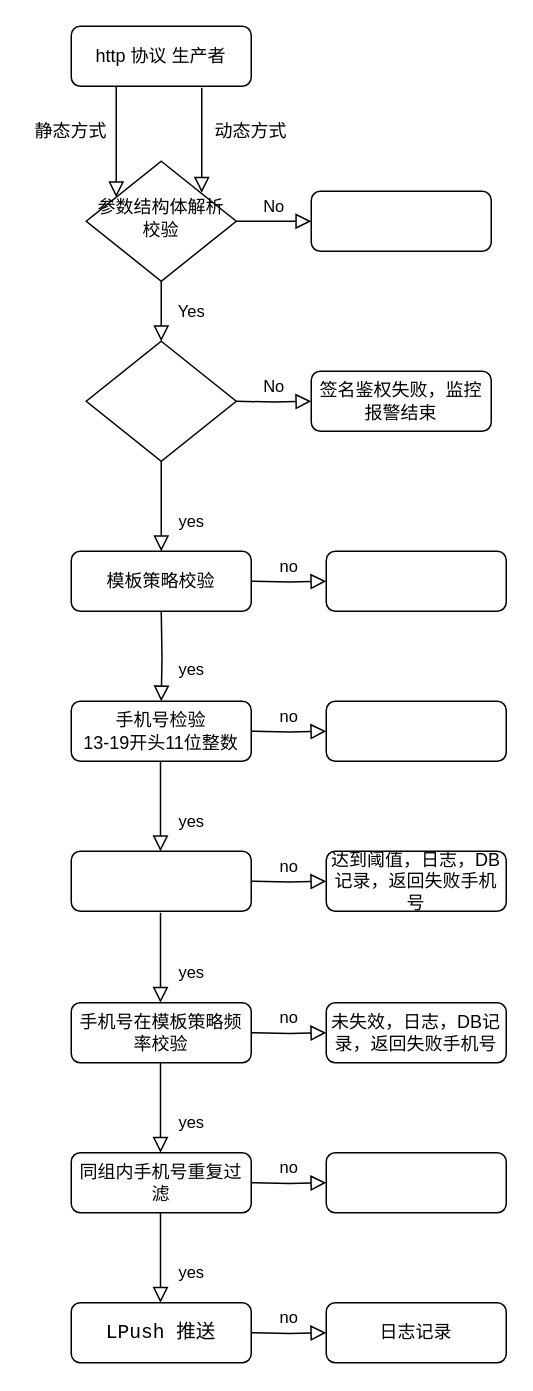
Image size: 533x1391. Some labels were removed from this diagram. Each missing label, with the box of its shape:
不合法手机号，日志、DB记录，最后会返回失败手机号: (325, 700, 506, 761)
参数错误失败监控报警，结束: (310, 190, 491, 251)
模板策略是否限制，是限制：当天单手机号30条限制: (70, 850, 251, 911)
模板策略检验失败监控报警结束: (325, 550, 506, 611)
签名校验，每个代码仓独立: (85, 340, 236, 461)
过滤号，日志，DB记录，返回失败手机号: (325, 1151, 506, 1213)
